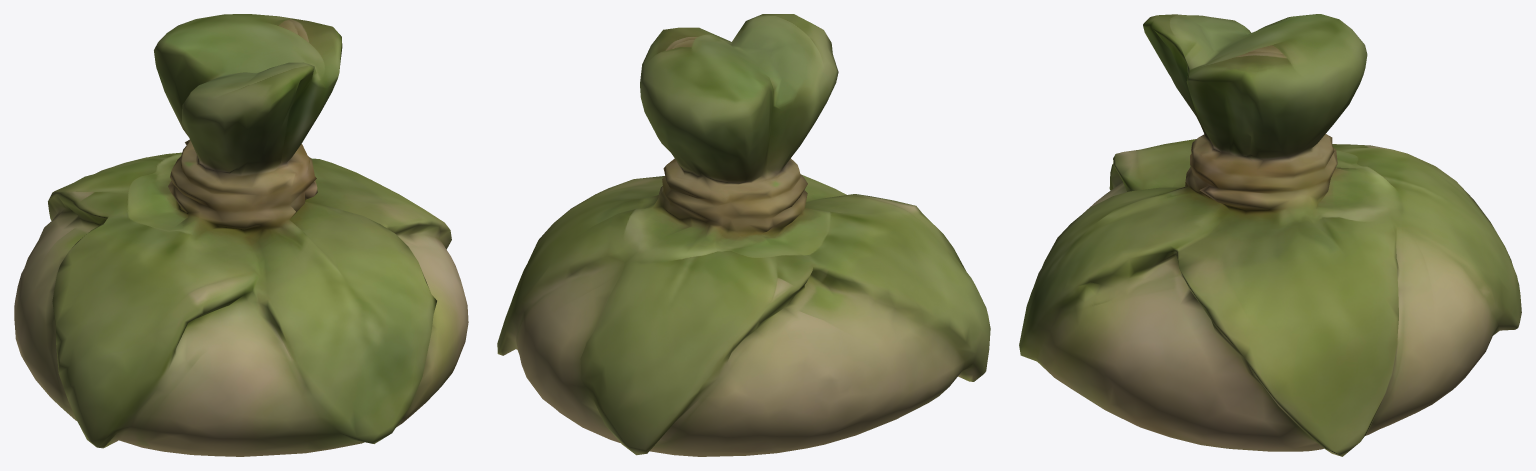
File: poultice.glb
3 views of the same model, side by side, from view 1: azimuth 30°, elevation 25°; view 2: azimuth 150°, elevation 25°; view 3: azimuth 270°, elevation 25° (orthographic). The views are drawn at different scales.
Parts seen in each view (by area): view 1: tripo_node_59b7d98a-f91e-446e-b5d4-0d874d3976fd; view 2: tripo_node_59b7d98a-f91e-446e-b5d4-0d874d3976fd; view 3: tripo_node_59b7d98a-f91e-446e-b5d4-0d874d3976fd.
Boxes of the visible parts, x1,y1,x2,y2 form: tripo_node_59b7d98a-f91e-446e-b5d4-0d874d3976fd: (14,14,468,456); tripo_node_59b7d98a-f91e-446e-b5d4-0d874d3976fd: (497,14,990,456); tripo_node_59b7d98a-f91e-446e-b5d4-0d874d3976fd: (1019,14,1521,456).
Size of the model in its own units: 0.9742 by 0.8141 by 1.
Materials: 1 (1 with a texture image).
